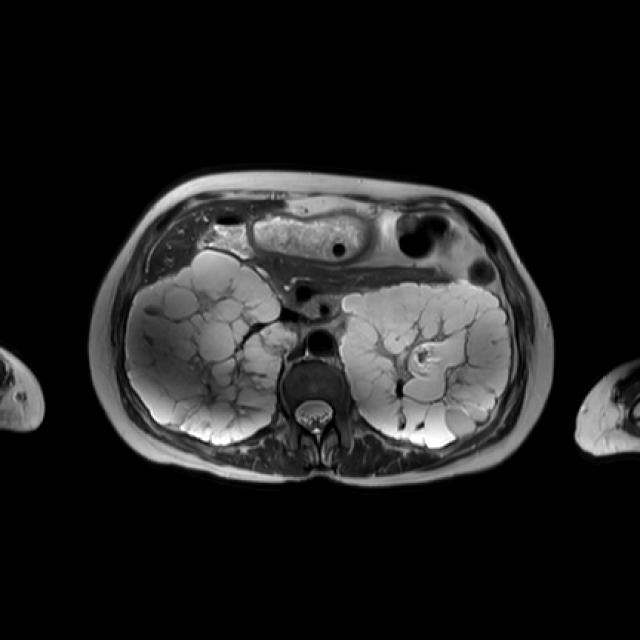sag: (124, 251, 300, 442)
sol: (340, 281, 510, 448)
